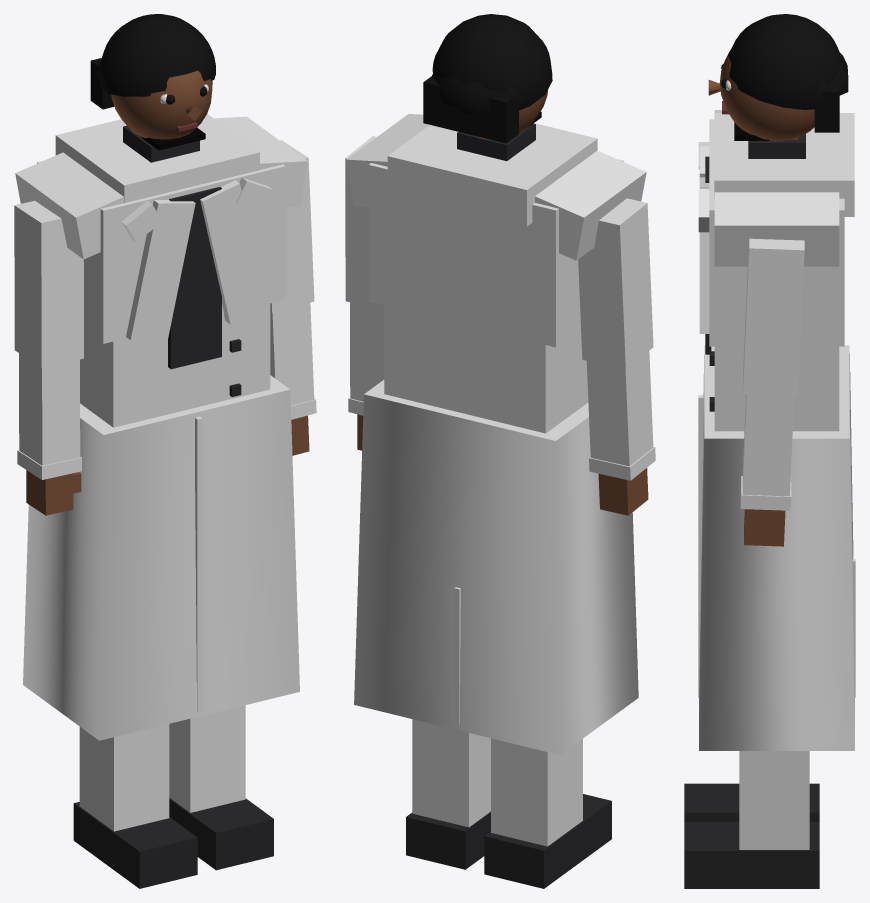
The model's file is NPC_overcoat.fbx.
3 views of the same model, side by side, from view 1: azimuth 30°, elevation 25°; view 2: azimuth 150°, elevation 25°; view 3: azimuth 270°, elevation 25° (orthographic). The views are drawn at different scales.
Parts seen in each view (by area): view 1: Body_Cloth_726256, Body_Cloth_5a4c42, Arm_R_Cloth_726256, Body_Cloth_3a3a40, Body_Mat_242427, Head_Hair.012, Body_Mat_26262a, Arm_L_Cloth_726256, Head_Skin.012, Arm_R_Skin.004, Arm_R_Cloth_5a4c42, Arm_L_Skin.005; view 2: Body_Cloth_726256, Arm_R_Cloth_726256, Body_Cloth_3a3a40, Body_Cloth_5a4c42, Head_Hair.012, Body_Mat_242427, Arm_L_Cloth_726256, Arm_R_Skin.004, Body_Mat_26262a, Arm_R_Cloth_5a4c42; view 3: Body_Cloth_726256, Arm_L_Cloth_726256, Body_Cloth_5a4c42, Body_Mat_242427, Head_Hair.012, Body_Cloth_3a3a40, Head_Skin.012, Body_Mat_26262a, Arm_L_Skin.005, Arm_L_Cloth_5a4c42.
Boxes of the visible parts, x1,y1,x2,y2 form: Body_Cloth_726256: (15, 116, 307, 740); Body_Cloth_5a4c42: (55, 114, 272, 712); Arm_R_Cloth_726256: (14, 200, 83, 465); Body_Cloth_3a3a40: (79, 705, 245, 831); Body_Mat_242427: (73, 798, 273, 888); Head_Hair.012: (90, 14, 215, 109); Body_Mat_26262a: (123, 125, 241, 396); Arm_L_Cloth_726256: (270, 140, 314, 405); Head_Skin.012: (111, 70, 212, 139); Arm_R_Skin.004: (26, 470, 81, 515); Arm_R_Cloth_5a4c42: (17, 450, 81, 479); Arm_L_Skin.005: (291, 415, 309, 455); Body_Cloth_726256: (346, 114, 646, 754); Arm_R_Cloth_726256: (578, 198, 653, 466); Body_Cloth_3a3a40: (412, 719, 582, 846); Body_Cloth_5a4c42: (387, 123, 597, 726); Head_Hair.012: (423, 14, 552, 143); Body_Mat_242427: (406, 794, 611, 888); Arm_L_Cloth_726256: (345, 136, 384, 401); Arm_R_Skin.004: (598, 468, 648, 515); Body_Mat_26262a: (457, 123, 535, 160); Arm_R_Cloth_5a4c42: (589, 446, 655, 480); Body_Cloth_726256: (699, 110, 854, 750); Arm_L_Cloth_726256: (742, 238, 804, 496); Body_Cloth_5a4c42: (698, 113, 855, 697); Body_Mat_242427: (684, 783, 819, 888); Head_Hair.012: (728, 14, 848, 132); Body_Cloth_3a3a40: (739, 751, 809, 849); Head_Skin.012: (708, 50, 814, 141); Body_Mat_26262a: (705, 134, 805, 411); Arm_L_Skin.005: (744, 509, 785, 546); Arm_L_Cloth_5a4c42: (740, 476, 791, 510).
Size of the model in its own units: 0.6473 by 1.84 by 0.342.
